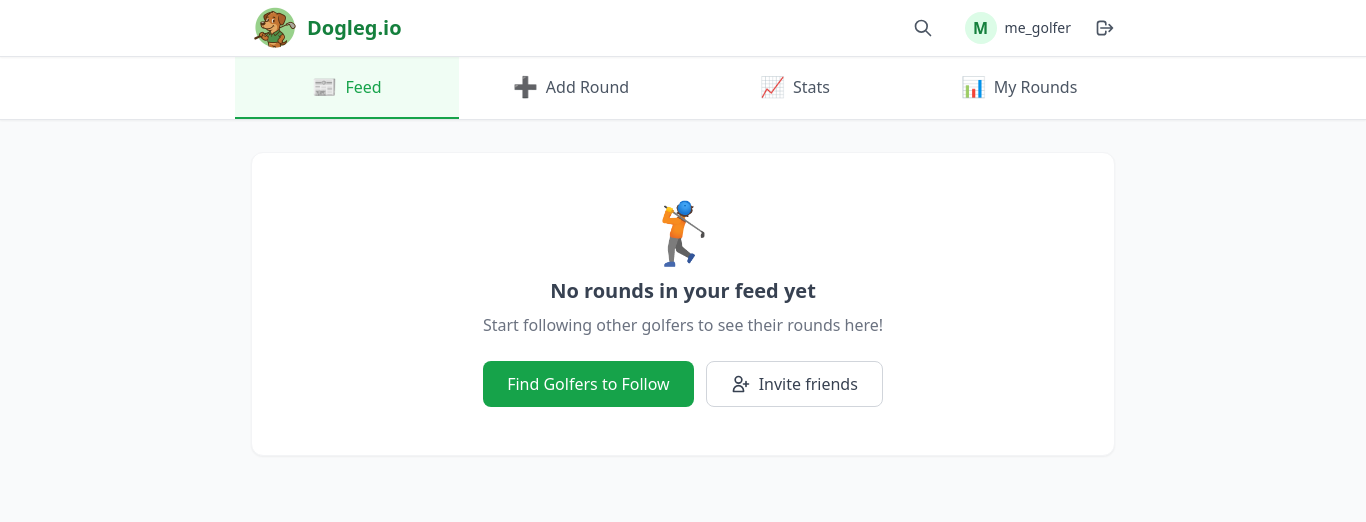
Test: the Feed after visiting other pages (SHELL-1) › a new user who follows a golfer from the empty Feed sees their round on coming back
The width and height of the screenshot is (1366, 522).
Click the button "Find Golfers to Follow": x=588, y=384 [483, 361, 694, 407]
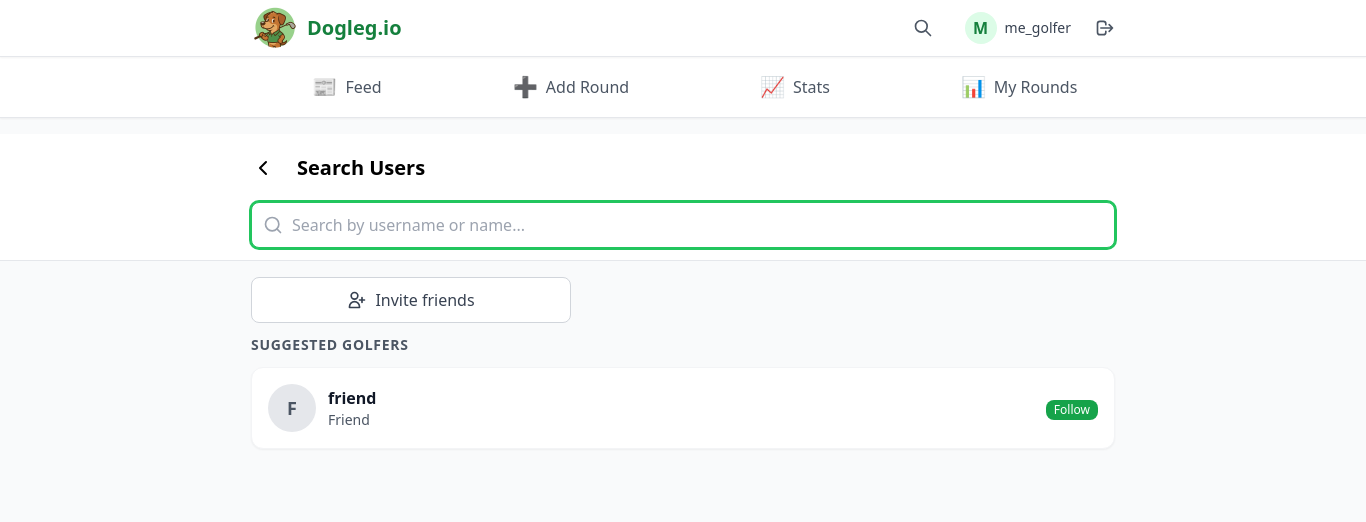
Expected: the heading "Suggested golfers" is shown, [251, 335, 409, 354]
Click the button "Follow": x=1072, y=410 [1046, 400, 1098, 420]
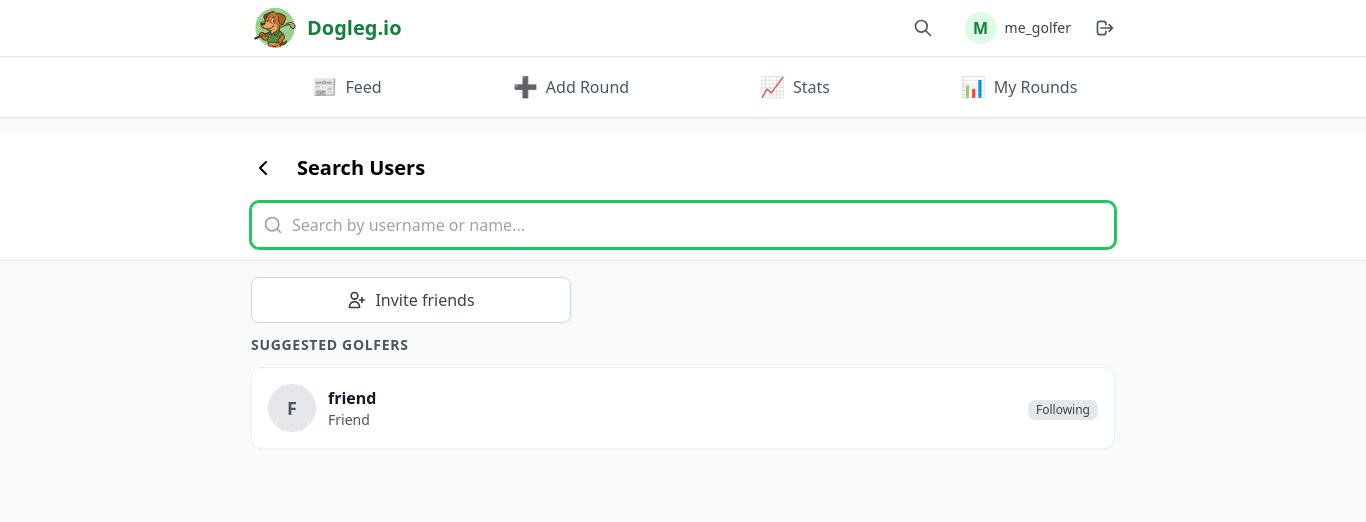
Expected: the button "Following" is shown, [1028, 400, 1098, 420]
// Back to the Feed with the tab bar
Click the link "📰 Feed": x=347, y=86 [312, 73, 382, 100]
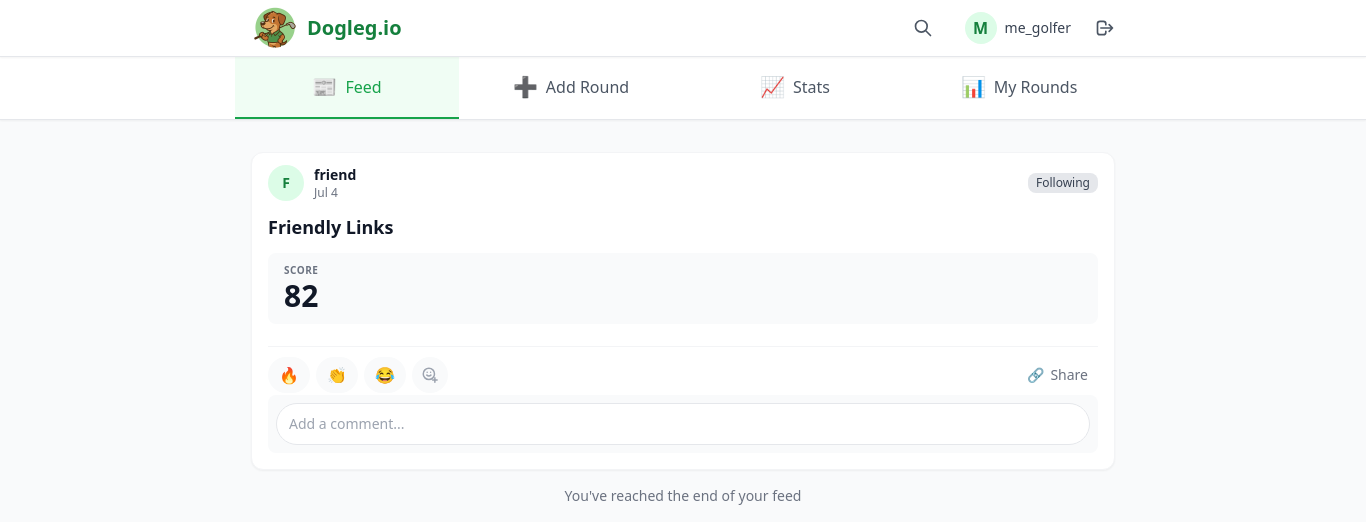
Expected: the heading "No rounds in your feed yet" is not shown
Expected: the element that starts with "friend" is shown, [251, 152, 1115, 470]
